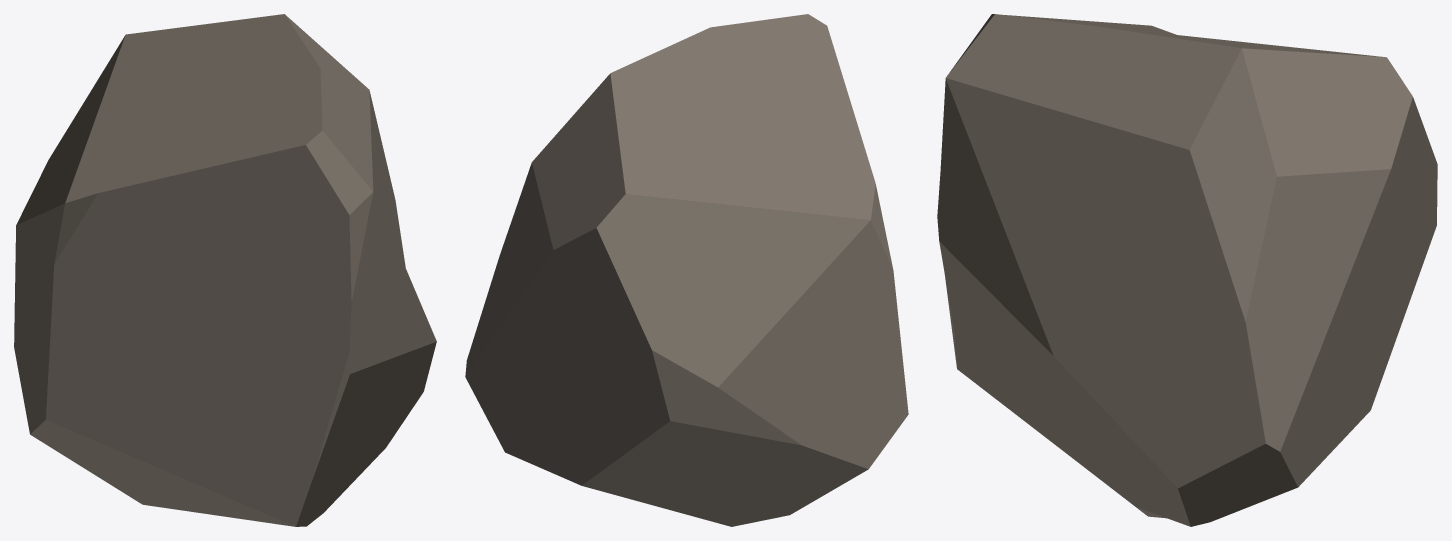
Rendered from Wh_Rock_Small_04.fbx.
The picture shows the model from 3 angles, left to right: view 1: azimuth 30°, elevation 25°; view 2: azimuth 150°, elevation 25°; view 3: azimuth 270°, elevation 25°; orthographic projection. The views are drawn at different scales.
Parts seen in each view (by area): view 1: LowPolyRock.020; view 2: LowPolyRock.020; view 3: LowPolyRock.020.
Boxes of the visible parts, bbox=[...] form: LowPolyRock.020: bbox=[14, 14, 436, 526]; LowPolyRock.020: bbox=[465, 14, 908, 526]; LowPolyRock.020: bbox=[937, 14, 1437, 526].
Size of the model in its own units: 120 by 133 by 124.
